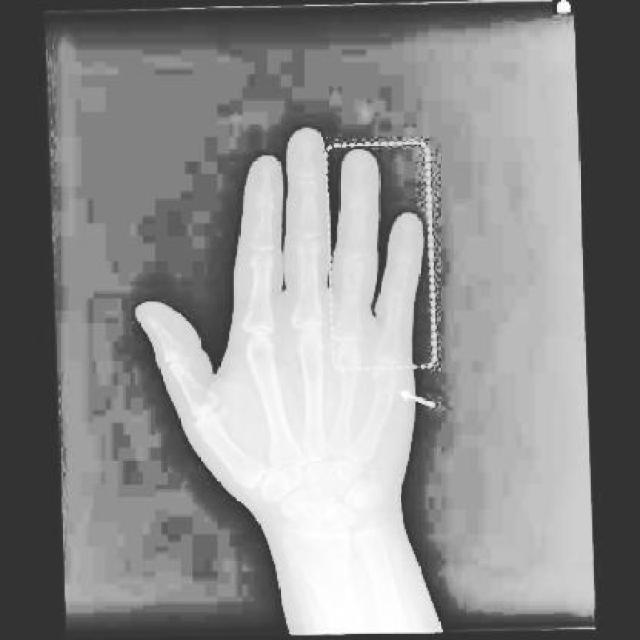Fracture: (375, 364, 417, 402)
